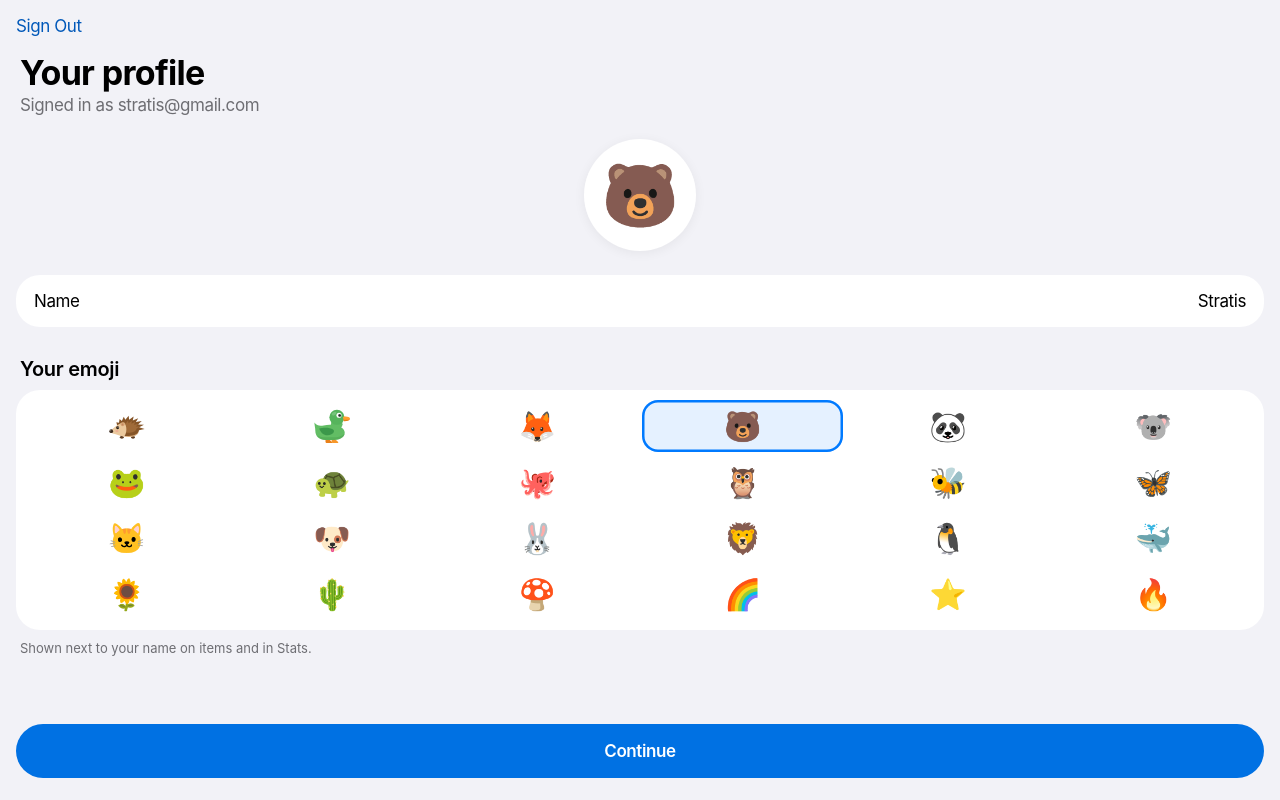
Test case: Join: "Are you one of these people?" › lists the people the home is waiting for; Join waits for an answer
This screenshot has width=1280, height=800.
Check: the heading "Your profile" is shown, box [20, 52, 205, 93]
What coordinates should you click on to do the following:
click the button "Continue"
I would click on:
 (640, 751)
Its box is [16, 724, 1264, 778].
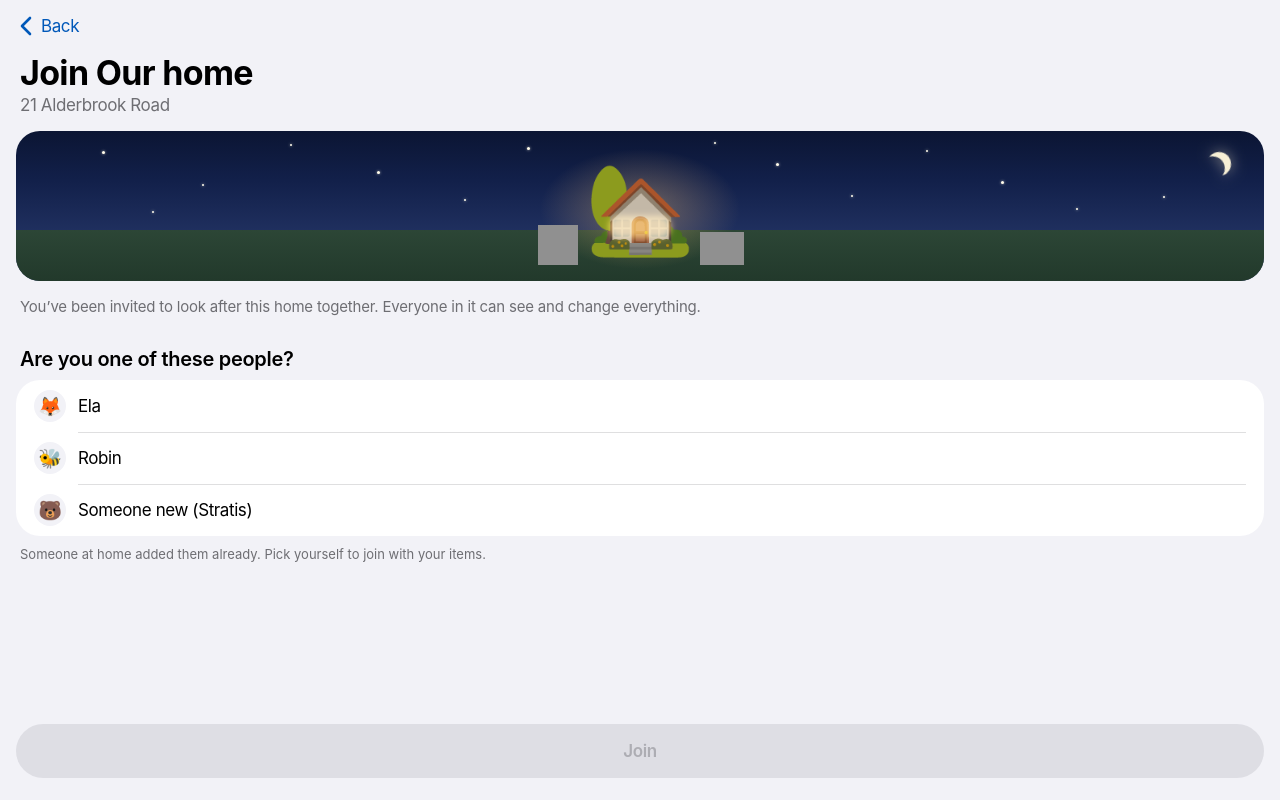
Check: the heading "Join Our home" is shown, box [20, 52, 253, 93]
Check: the radio buttons read "🦊Ela", "🐝Robin", "🐻Someone new (Stratis)", in this order, box [16, 380, 1264, 432]; [16, 432, 1264, 484]; [16, 484, 1264, 536]
Check: the button "Join" is disabled, box [16, 724, 1264, 778]
